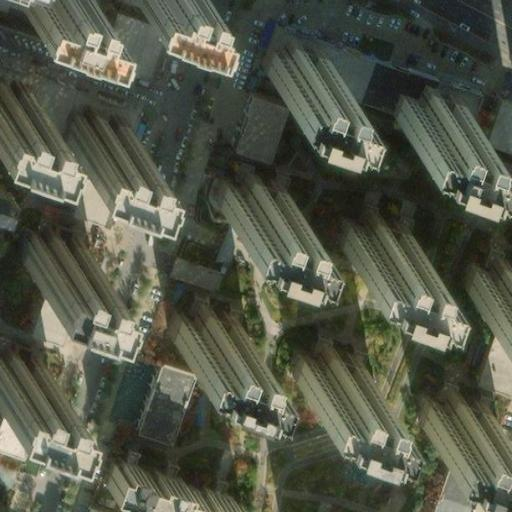building: (261, 22, 476, 133), (0, 58, 141, 151), (90, 452, 229, 512), (126, 345, 188, 432), (251, 35, 328, 98), (160, 283, 237, 346), (204, 164, 282, 226), (379, 80, 456, 142), (324, 203, 401, 265), (282, 327, 359, 389), (400, 372, 477, 434), (423, 440, 487, 512), (446, 240, 512, 302), (223, 87, 276, 154), (50, 112, 119, 160), (7, 223, 75, 271), (21, 289, 72, 339), (473, 324, 512, 384), (168, 253, 223, 289), (480, 102, 512, 154), (0, 0, 27, 32), (75, 494, 117, 512)
